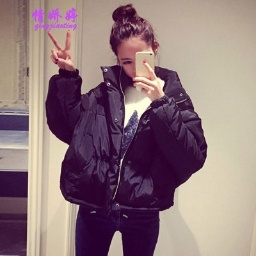face: (107, 4, 163, 80)
